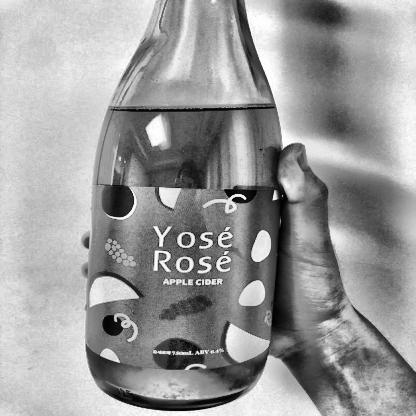yoserose: (88, 178, 282, 370)
